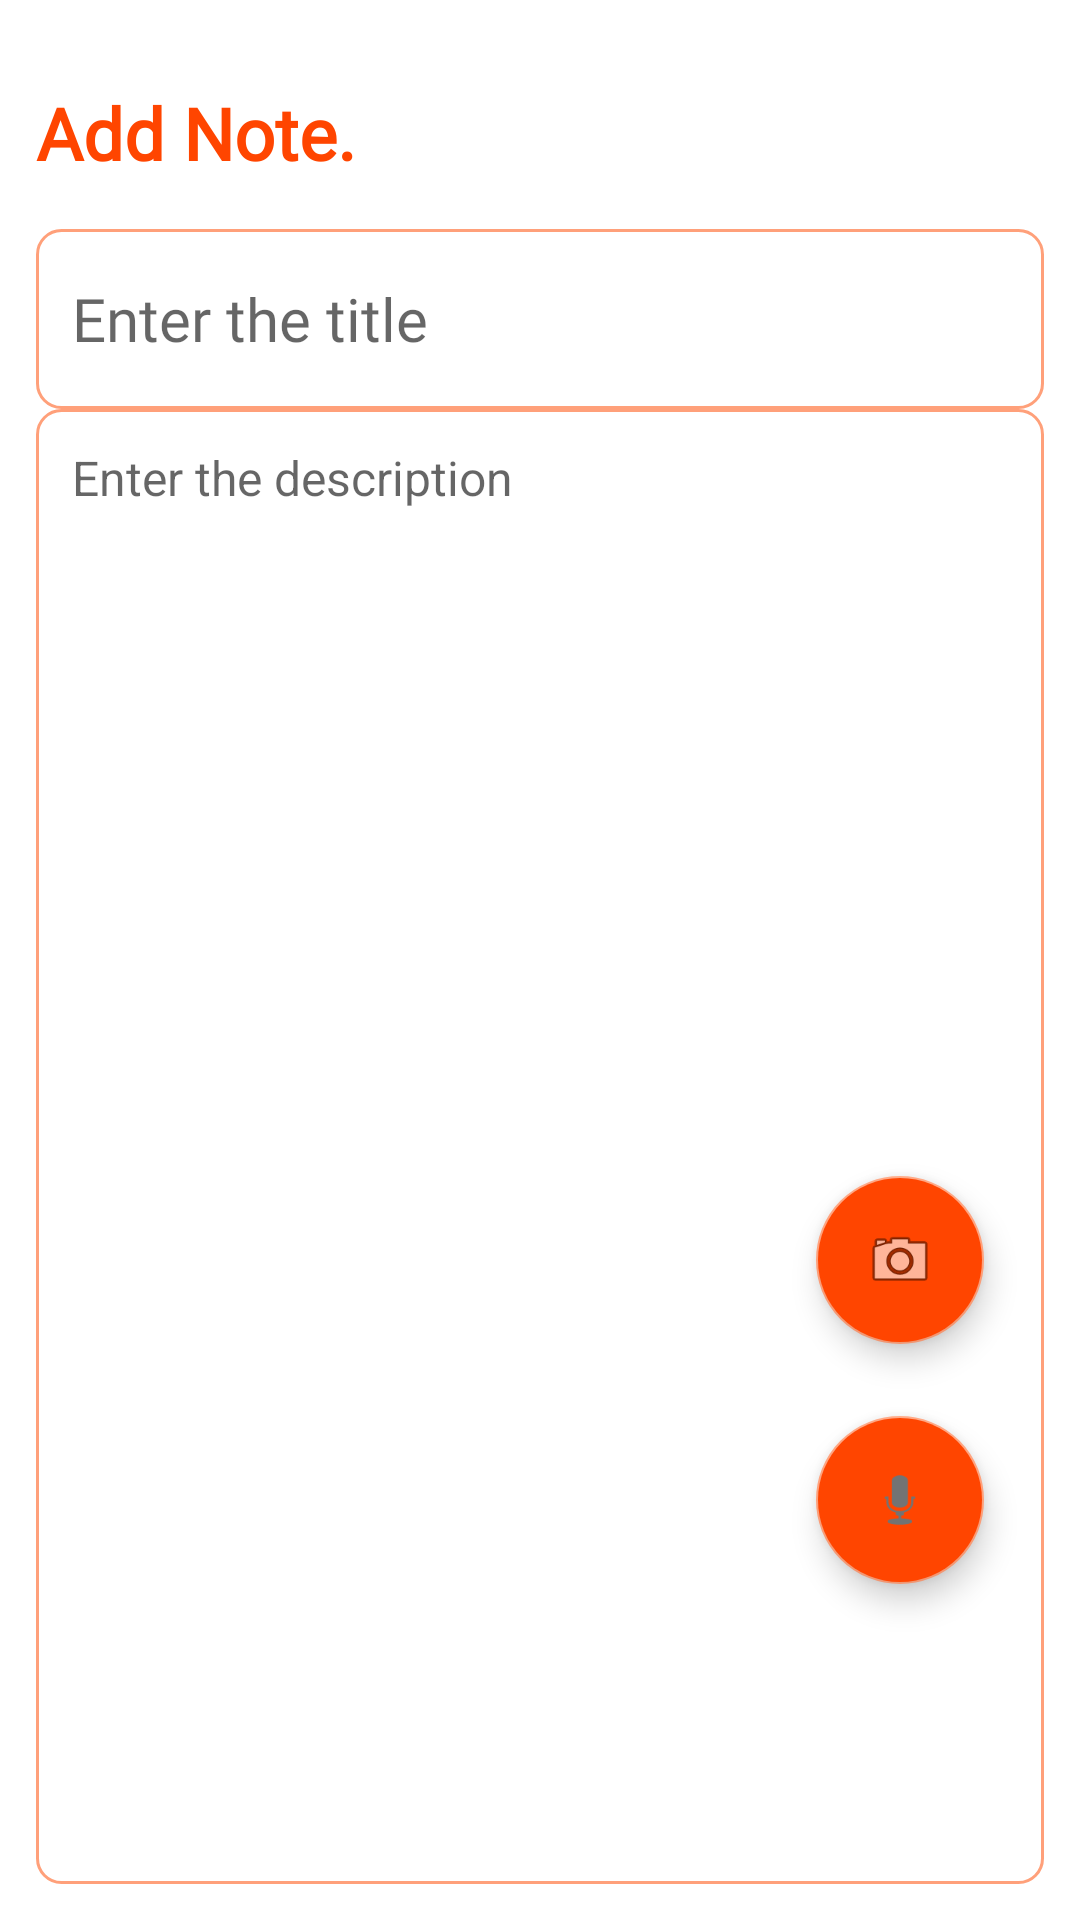

Where to tap for icons on this 1080 × 1920 app screen, as [x,y]:
camera: [900,1260]
speak now: [900,1500]
